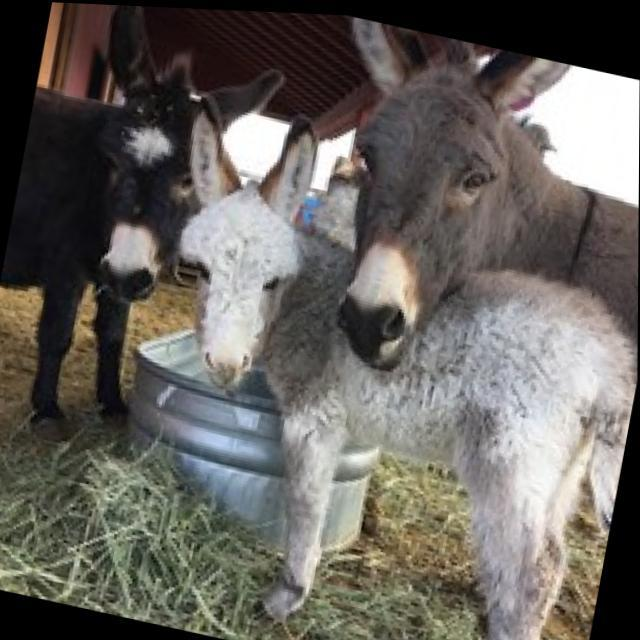Donkey: (232, 8, 640, 640), (0, 0, 296, 485)
